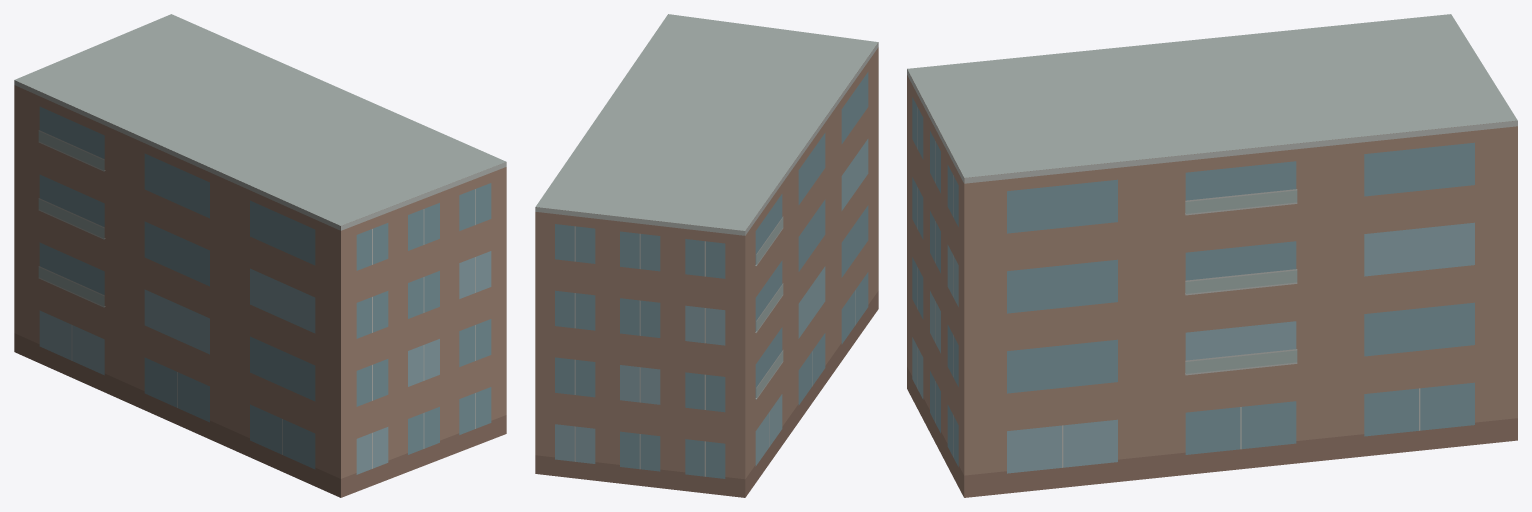
File: survey-upis-32805506.glb
3 views of the same model, side by side, from view 1: azimuth 30°, elevation 25°; view 2: azimuth 150°, elevation 25°; view 3: azimuth 270°, elevation 25° (orthographic). The views are drawn at different scales.
Visible parts, largest first — view 1: survey-upis-32805506.tmp; view 2: survey-upis-32805506.tmp; view 3: survey-upis-32805506.tmp.
Part boxes in pixels (left/top/right/bottom): survey-upis-32805506.tmp: left=14, top=14, right=506, bottom=497; survey-upis-32805506.tmp: left=535, top=14, right=878, bottom=497; survey-upis-32805506.tmp: left=907, top=14, right=1517, bottom=497.
Bounding box in the file's own units: 14.84 × 13.5 × 23.36.
